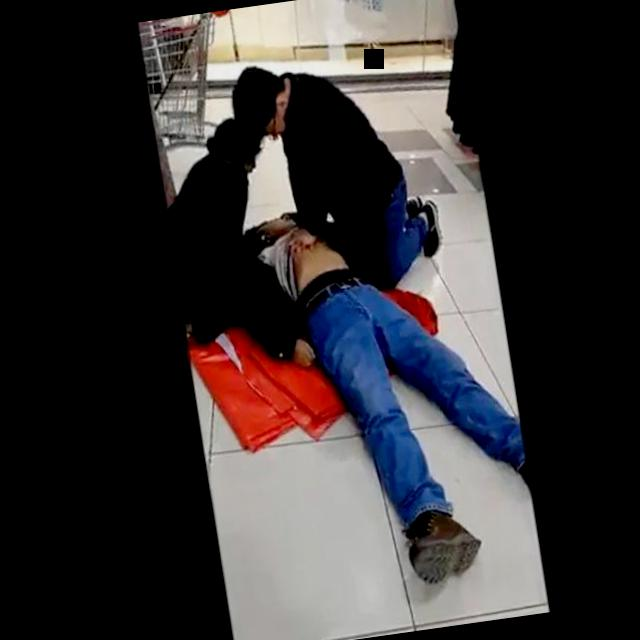Fall-Detected: (205, 166, 550, 608)
